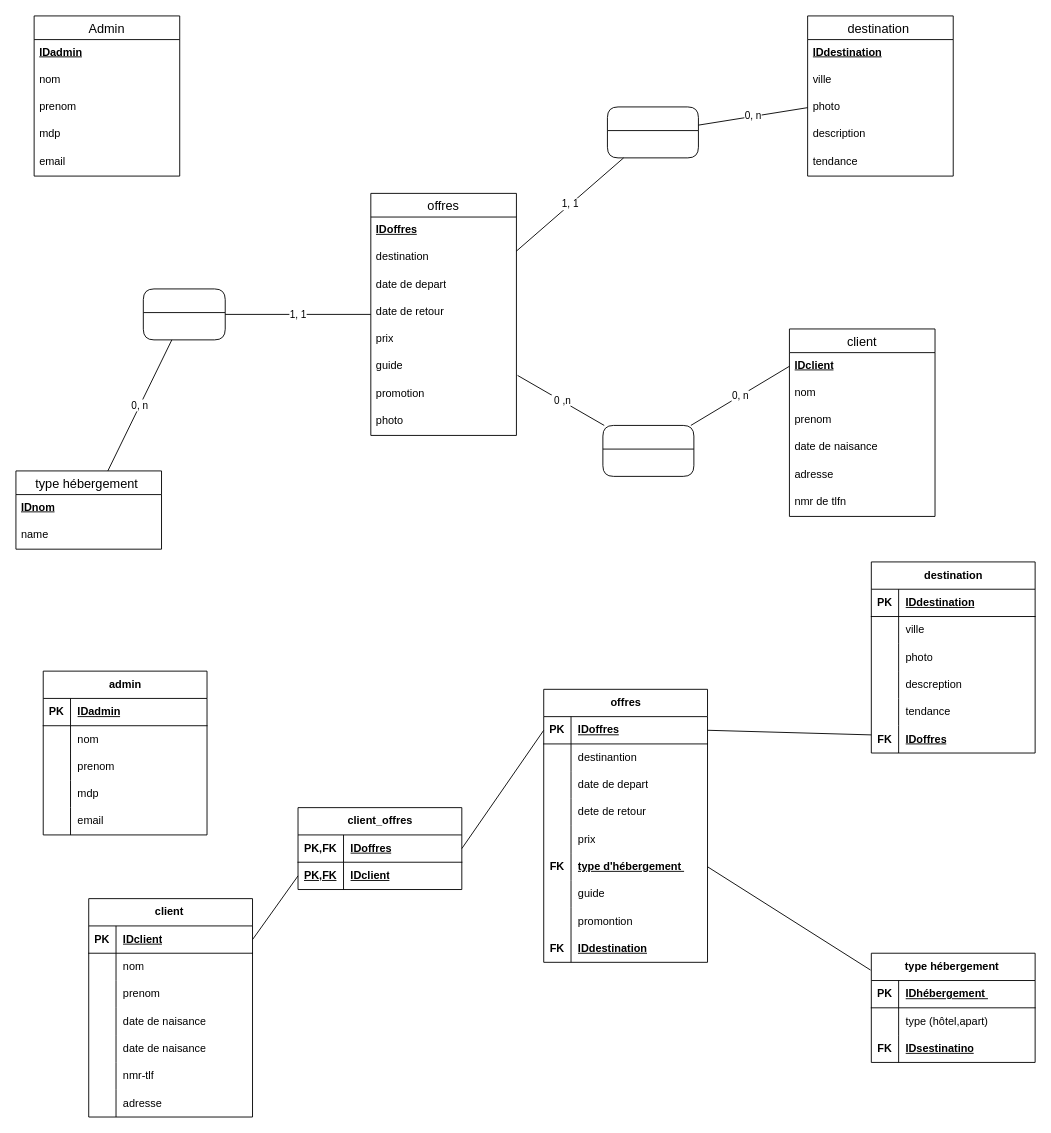
Some shapes in this 1051 by 1133 pixel diagram are drawn without their labels. Here are the shapes that lost their labels. From the top down, the centre of each, then its label:
(x=652, y=132): Appartenir
(x=183, y=314): Posséder
(x=648, y=450): Réerver
